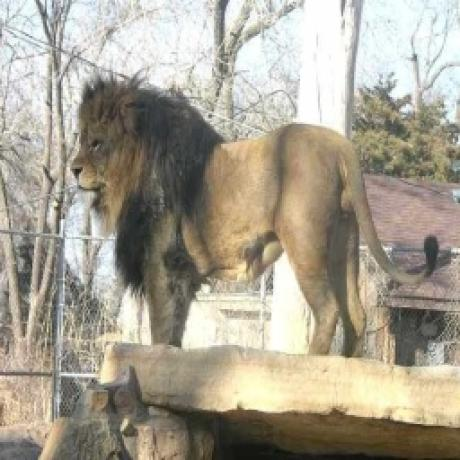Lion: (66, 72, 443, 359)
